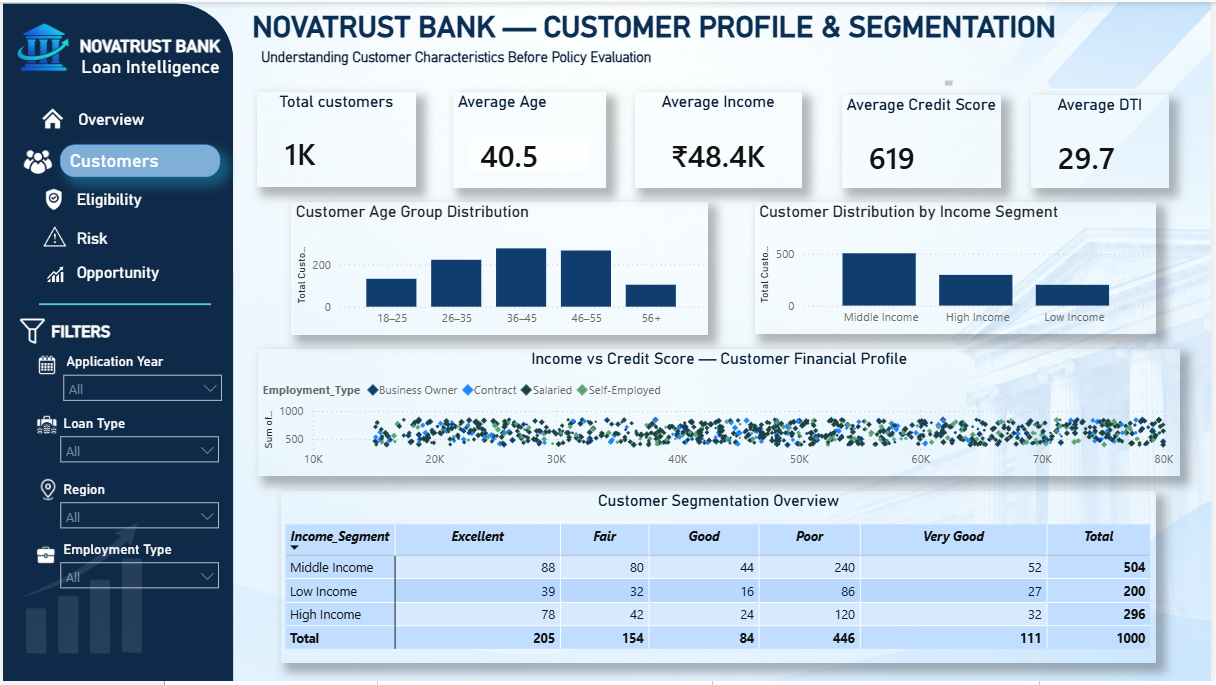

The dashboard page shown, as its layout file describes it:
{"tool":"powerbi","page":{"name":"Customer Profile & Segmentation","canvas":[1280,720],"ordinal":1},"visuals":[{"type":"shape","box":[0,0.8,244.2,719.2],"z":0},{"type":"image","box":[9.5,20.7,63.6,55.7],"z":1000},{"type":"textbox","title":"NOVATRUST BANK","box":[73.2,36.6,165.4,20.7],"z":2000},{"type":"textbox","title":"Loan Intelligence","box":[60.4,57.3,192,42.1],"z":3000},{"type":"image","box":[42.1,108.5,22.7,30.8],"z":4000},{"type":"textbox","title":"Customers","box":[59.9,150.6,170.2,35],"z":5000},{"type":"image","box":[21,153.8,32.4,30.8],"z":6000},{"type":"textbox","title":"Overview","box":[74.4,115.1,155.4,19.4],"z":7000},{"type":"image","box":[31.9,196.2,44.5,28.6],"z":8000},{"type":"textbox","title":"Eligibility","box":[73.2,198.8,151.1,25.4],"z":9000},{"type":"image","box":[42.9,235.4,23.9,27],"z":10000},{"type":"textbox","title":"Risk","box":[73.2,240.2,179.7,25.4],"z":11000},{"type":"image","box":[33.4,275.2,44.5,27],"z":12000},{"type":"textbox","title":"Opportunity","box":[73.2,276.8,147.9,25.4],"z":13000},{"type":"shape","box":[39,304.7,182.4,30.1],"z":14000},{"type":"image","box":[16.7,335,30,26.7],"z":15000},{"type":"textbox","title":"FILTERS","box":[46.1,338.8,187.7,28.6],"z":16000},{"type":"image","box":[35,373.3,23.3,21.7],"z":17000},{"type":"slicer","title":"Application Year","fields":{"Values":["Loan_Applications.Application_Date"]},"box":[54.1,367.4,187.7,65.2],"z":18000},{"type":"image","box":[23.3,433.3,45,35],"z":19000},{"type":"slicer","fields":{"Values":["Loan_Applications.Loan_Type"]},"box":[50.9,432.6,187.7,70],"z":20000},{"type":"slicer","fields":{"Values":["Loan_Applications.Region"]},"box":[50.9,502.6,187.7,62],"z":21000},{"type":"slicer","fields":{"Values":["Loan_Applications.Employment_Type"]},"box":[50.9,566.3,187.7,68.4],"z":22000},{"type":"image","box":[31.7,503.3,31.7,28.3],"z":23000},{"type":"image","box":[11.7,553.3,68.4,65.2],"z":24000},{"type":"image","box":[0,518.5,162.7,201],"z":25000},{"type":"textbox","title":" NOVATRUST BANK — CUSTOMER PROFILE & SEGMENTATION","box":[259.3,8,949.6,49.3],"z":26000},{"type":"textbox","title":"Understanding Customer Characteristics Before Policy Evaluation","box":[268.8,49.3,742.8,44.5],"z":27000},{"type":"cardVisual","title":"Average Age","fields":{"Data":["Loan_Applications.Average Age"]},"box":[477,95.7,162.7,102.1],"z":28000},{"type":"cardVisual","title":"Total customers","fields":{"Data":["Loan_Applications.Total Customers"]},"box":[268,95.7,169.1,100.5],"z":29000},{"type":"cardVisual","title":"Average Income","fields":{"Data":["Loan_Applications.Average Income"]},"box":[670.1,95.7,177.1,102.1],"z":30000},{"type":"cardVisual","title":"Average Credit Score","fields":{"Data":["Loan_Applications.Average Credit Score"]},"box":[888.6,98.9,169.1,98.9],"z":31000},{"type":"cardVisual","title":"Average DTI","fields":{"Data":["Loan_Applications.Average DTI"]},"box":[1089.6,98.9,146.8,98.9],"z":32000},{"type":"clusteredColumnChart","title":"Customer Age Group Distribution","fields":{"Category":["Loan_Applications.Age Group"],"Y":["Loan_Applications.Total Customers"]},"box":[305.4,211.6,442.2,141.6],"z":33000},{"type":"columnChart","title":"Customer Distribution by Income Segment","fields":{"Category":["Loan_Applications.Income_Segment"],"Y":["Loan_Applications.Total Customers"]},"box":[797.7,212.2,426,140.4],"z":34000},{"type":"scatterChart","title":"Income vs Credit Score — Customer Financial Profile","fields":{"X":["Sum(Loan_Applications.Income)"],"Y":["Sum(Loan_Applications.CreditScore)"],"Size":["Sum(Loan_Applications.LoanAmount)"],"Series":["Loan_Applications.Employment_Type"],"Category":["Loan_Applications.Applicant_ID"]},"box":[269.6,366.9,978,135.6],"z":35000},{"type":"pivotTable","title":"Customer Segmentation Overview","fields":{"Rows":["Loan_Applications.Income_Segment"],"Columns":["Loan_Applications.Credit_Score_Band"],"Values":["Loan_Applications.Total Customers"]},"box":[294.3,518.5,928.9,182.9],"z":36000},{"type":"actionButton","box":[67.3,108,178.9,40.7],"z":37000},{"type":"actionButton","box":[69.1,267.5,145.2,40.7],"z":38000},{"type":"actionButton","box":[67.3,228.5,100,40],"z":39000},{"type":"actionButton","box":[67.3,187.8,147,40.7],"z":40000}]}

Visuals, with their boxes in screenshot pixels (x1, y1, x2, y2), scaled from the page's 1280x720 canvas onto the 1216x685 screenshot:
shape: {"left": 0, "top": 1, "right": 232, "bottom": 684}
image: {"left": 9, "top": 20, "right": 69, "bottom": 73}
"NOVATRUST BANK" textbox: {"left": 70, "top": 35, "right": 227, "bottom": 55}
"Loan Intelligence" textbox: {"left": 57, "top": 55, "right": 240, "bottom": 95}
image: {"left": 40, "top": 103, "right": 62, "bottom": 133}
"Customers" textbox: {"left": 57, "top": 143, "right": 219, "bottom": 177}
image: {"left": 20, "top": 146, "right": 51, "bottom": 176}
"Overview" textbox: {"left": 71, "top": 110, "right": 218, "bottom": 128}
image: {"left": 30, "top": 187, "right": 73, "bottom": 214}
"Eligibility" textbox: {"left": 70, "top": 189, "right": 213, "bottom": 213}
image: {"left": 41, "top": 224, "right": 63, "bottom": 250}
"Risk" textbox: {"left": 70, "top": 229, "right": 240, "bottom": 253}
image: {"left": 32, "top": 262, "right": 74, "bottom": 288}
"Opportunity" textbox: {"left": 70, "top": 263, "right": 210, "bottom": 288}
shape: {"left": 37, "top": 290, "right": 210, "bottom": 319}
image: {"left": 16, "top": 319, "right": 44, "bottom": 344}
"FILTERS" textbox: {"left": 44, "top": 322, "right": 222, "bottom": 350}
image: {"left": 33, "top": 355, "right": 55, "bottom": 376}
"Application Year" slicer: {"left": 51, "top": 350, "right": 230, "bottom": 412}
image: {"left": 22, "top": 412, "right": 65, "bottom": 446}
slicer - Loan_Applications.Loan_Type: {"left": 48, "top": 412, "right": 227, "bottom": 478}
slicer - Loan_Applications.Region: {"left": 48, "top": 478, "right": 227, "bottom": 537}
slicer - Loan_Applications.Employment_Type: {"left": 48, "top": 539, "right": 227, "bottom": 604}
image: {"left": 30, "top": 479, "right": 60, "bottom": 506}
image: {"left": 11, "top": 526, "right": 76, "bottom": 588}
image: {"left": 0, "top": 493, "right": 155, "bottom": 684}
" NOVATRUST BANK — CUSTOMER PROFILE & SEGMENTATION" textbox: {"left": 246, "top": 8, "right": 1148, "bottom": 55}
"Understanding Customer Characteristics Before Policy Evaluation" textbox: {"left": 255, "top": 47, "right": 961, "bottom": 89}
"Average Age" cardVisual: {"left": 453, "top": 91, "right": 608, "bottom": 188}
"Total customers" cardVisual: {"left": 255, "top": 91, "right": 415, "bottom": 187}
"Average Income" cardVisual: {"left": 637, "top": 91, "right": 805, "bottom": 188}
"Average Credit Score" cardVisual: {"left": 844, "top": 94, "right": 1005, "bottom": 188}
"Average DTI" cardVisual: {"left": 1035, "top": 94, "right": 1175, "bottom": 188}
"Customer Age Group Distribution" clusteredColumnChart: {"left": 290, "top": 201, "right": 710, "bottom": 336}
"Customer Distribution by Income Segment" columnChart: {"left": 758, "top": 202, "right": 1163, "bottom": 335}
"Income vs Credit Score — Customer Financial Profile" scatterChart: {"left": 256, "top": 349, "right": 1185, "bottom": 478}
"Customer Segmentation Overview" pivotTable: {"left": 280, "top": 493, "right": 1162, "bottom": 667}
actionButton: {"left": 64, "top": 103, "right": 234, "bottom": 141}
actionButton: {"left": 66, "top": 254, "right": 204, "bottom": 293}
actionButton: {"left": 64, "top": 217, "right": 159, "bottom": 255}
actionButton: {"left": 64, "top": 179, "right": 204, "bottom": 217}
